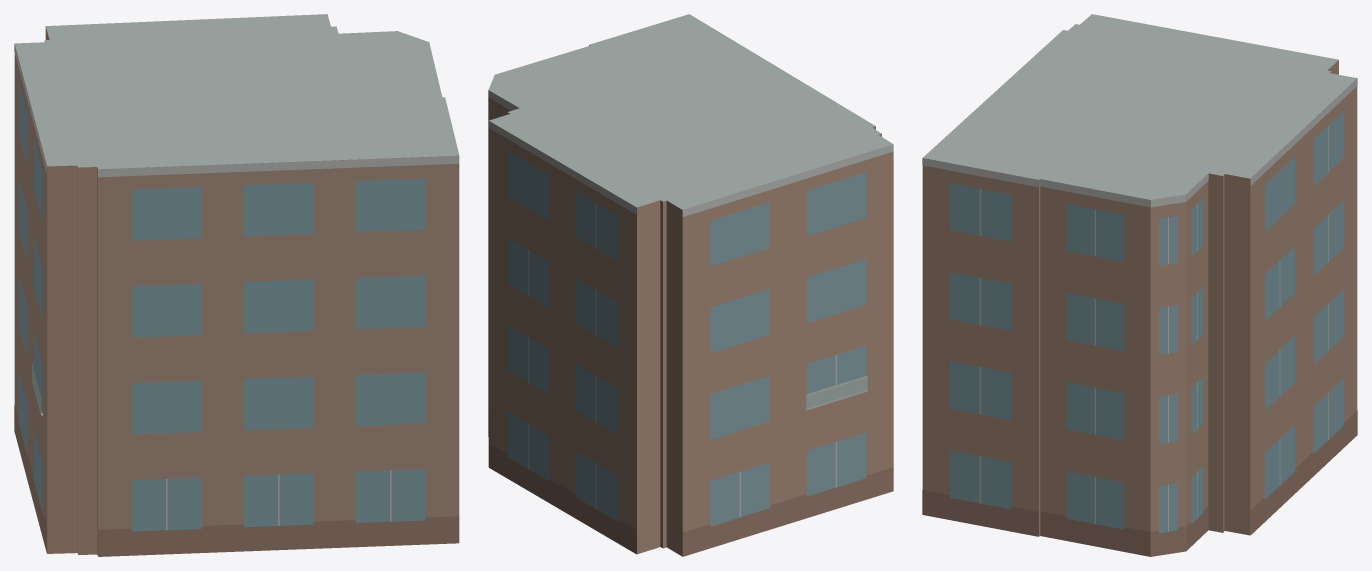
The model's file is survey-upis-32667293.glb.
3 views of the same model, side by side, from view 1: azimuth 30°, elevation 25°; view 2: azimuth 150°, elevation 25°; view 3: azimuth 270°, elevation 25° (orthographic). The views are drawn at different scales.
Visible parts, largest first — view 1: survey-upis-32667293.tmp; view 2: survey-upis-32667293.tmp; view 3: survey-upis-32667293.tmp.
Part boxes in pixels (left/top/right/bottom): survey-upis-32667293.tmp: left=14, top=14, right=459, bottom=556; survey-upis-32667293.tmp: left=488, top=14, right=893, bottom=556; survey-upis-32667293.tmp: left=922, top=14, right=1357, bottom=556.
Bounding box in the file's own units: 13.09 × 11.7 × 12.93.
